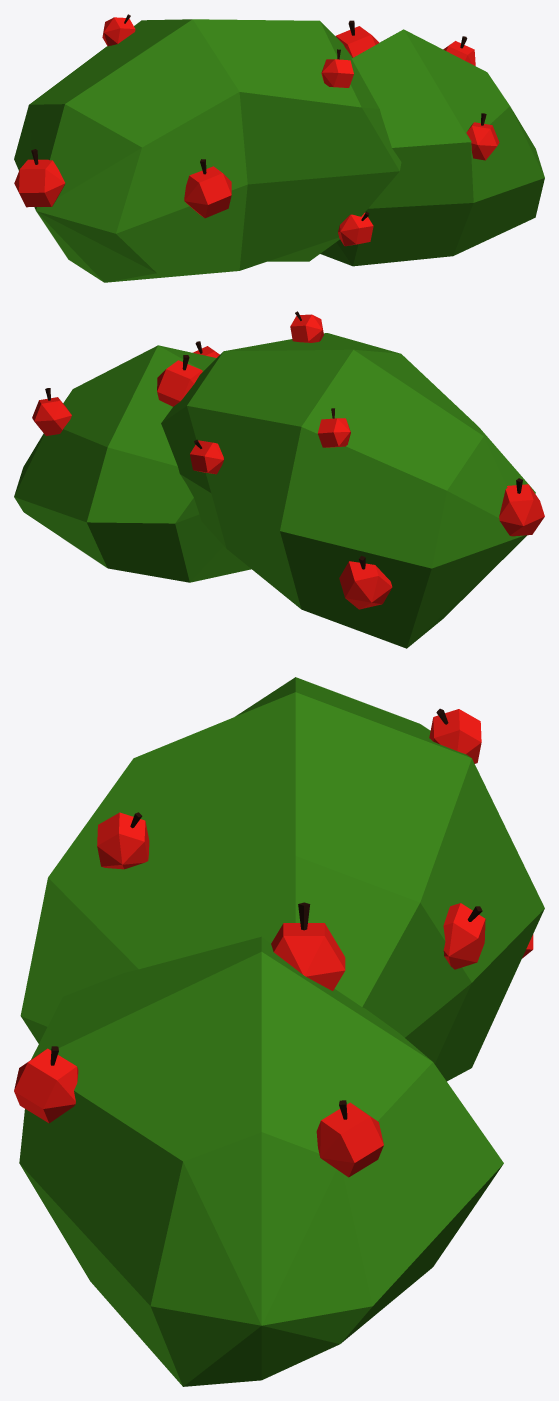
The model's file is bush 2.fbx.
3 renders of one model, top to bottom at view 1: azimuth 30°, elevation 25°; view 2: azimuth 150°, elevation 25°; view 3: azimuth 270°, elevation 25°, orthographic. The views are drawn at different scales.
Visible parts, largest first — view 1: bush 2; view 2: bush 2; view 3: bush 2.
Part boxes in pixels (x1,y1,x2,y2): bush 2: (14, 14, 544, 282); bush 2: (14, 311, 544, 648); bush 2: (14, 677, 544, 1386).
Bounding box in the file's own units: 538 × 250 × 278.
